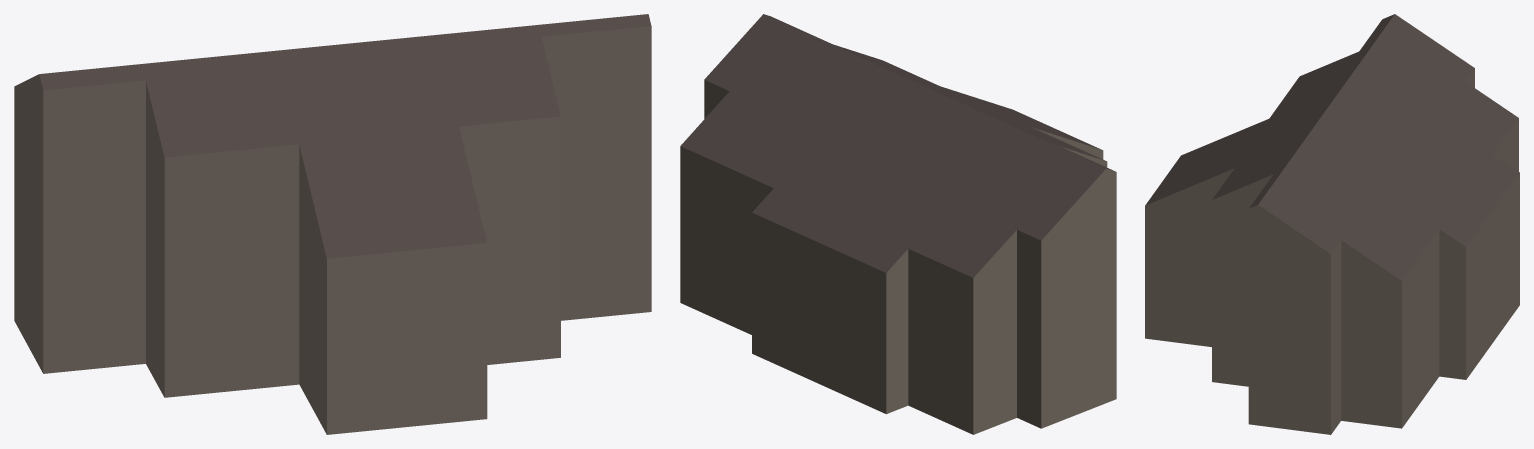
The picture shows the model from 3 angles, left to right: view 1: azimuth 30°, elevation 25°; view 2: azimuth 150°, elevation 25°; view 3: azimuth 270°, elevation 25°; orthographic projection. The views are drawn at different scales.
Visible parts, largest first — view 1: HP-w859488887; view 2: HP-w859488887; view 3: HP-w859488887.
Part boxes in pixels (bbox=[...]): HP-w859488887: bbox=[14, 14, 651, 434]; HP-w859488887: bbox=[680, 14, 1116, 434]; HP-w859488887: bbox=[1145, 14, 1519, 434].
Bounding box in the file's own units: 29.34 × 14.96 × 23.02.
